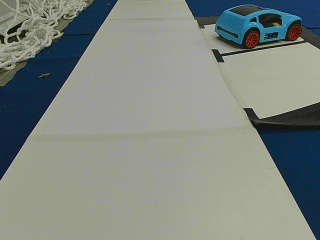car: (214, 5, 300, 47)
